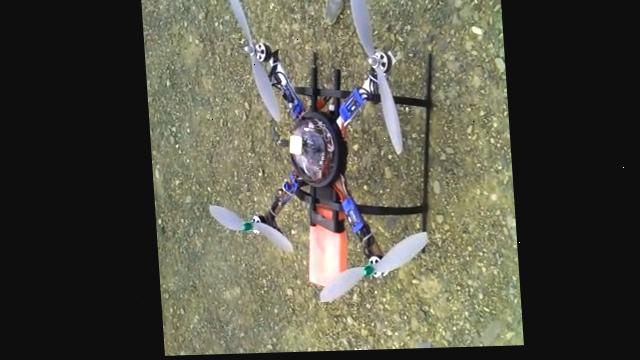drone: (191, 0, 447, 310)
